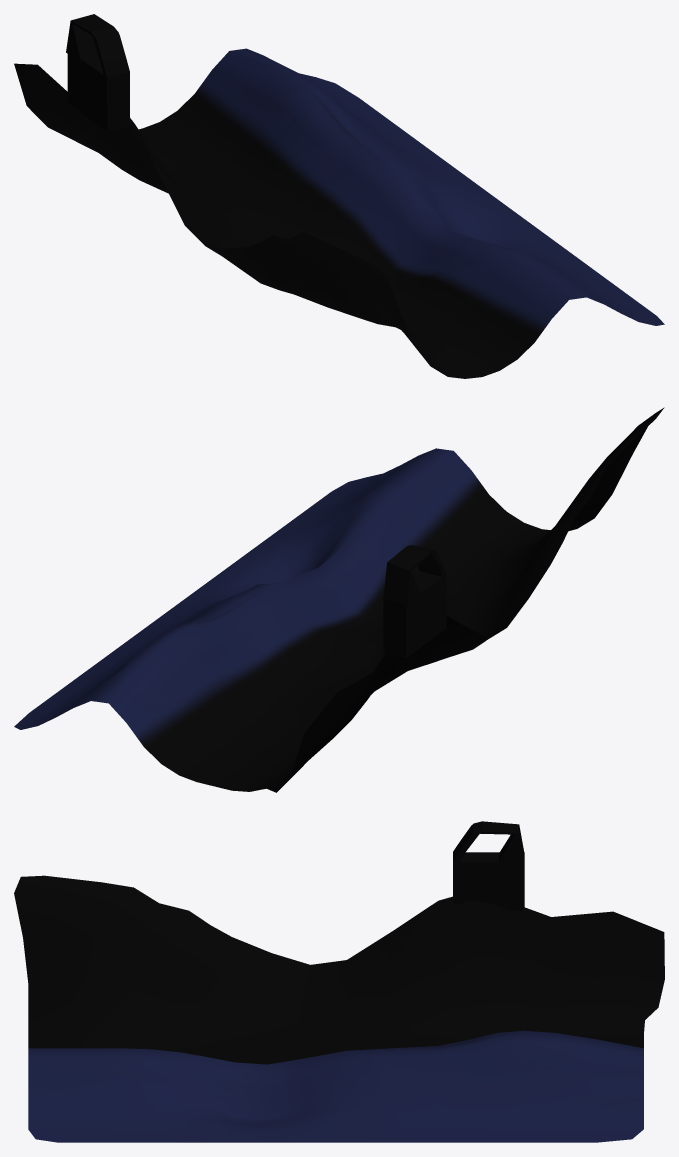
File: ground1.fbx
The picture shows the model from 3 angles, top to bottom: view 1: azimuth 30°, elevation 25°; view 2: azimuth 150°, elevation 25°; view 3: azimuth 270°, elevation 25°; orthographic projection. The views are drawn at different scales.
Visible parts, largest first — view 1: Cube; view 2: Cube; view 3: Cube.
Boxes of the visible parts, box(x1,y1,x2,y2) form: Cube: box(14, 14, 664, 378); Cube: box(14, 407, 664, 792); Cube: box(14, 821, 664, 1142).
Size of the model in its own units: 6.23 by 3.57 by 11.65.
